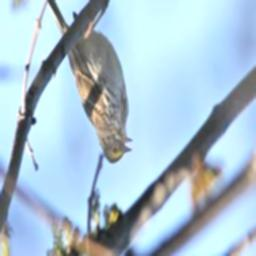Sparrow: (40, 0, 133, 167)
